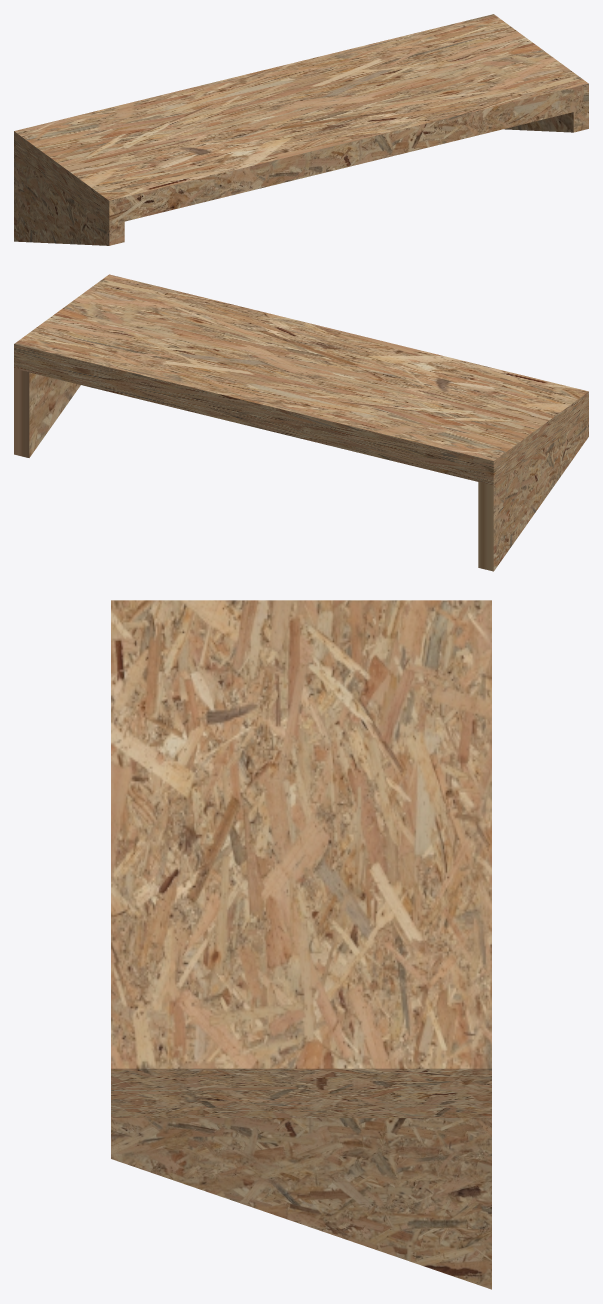
The model's file is barangrak.fbx.
The picture shows the model from 3 angles, top to bottom: view 1: azimuth 30°, elevation 25°; view 2: azimuth 150°, elevation 25°; view 3: azimuth 270°, elevation 25°; orthographic projection. The views are drawn at different scales.
Visible parts, largest first — view 1: Cube.001; view 2: Cube.001; view 3: Cube.001.
Part boxes in pixels (x1,y1,x2,y2): Cube.001: (14, 14, 588, 245); Cube.001: (14, 274, 588, 571); Cube.001: (111, 600, 491, 1289).
Bounding box in the file's own units: 353 × 77.61 × 121.
